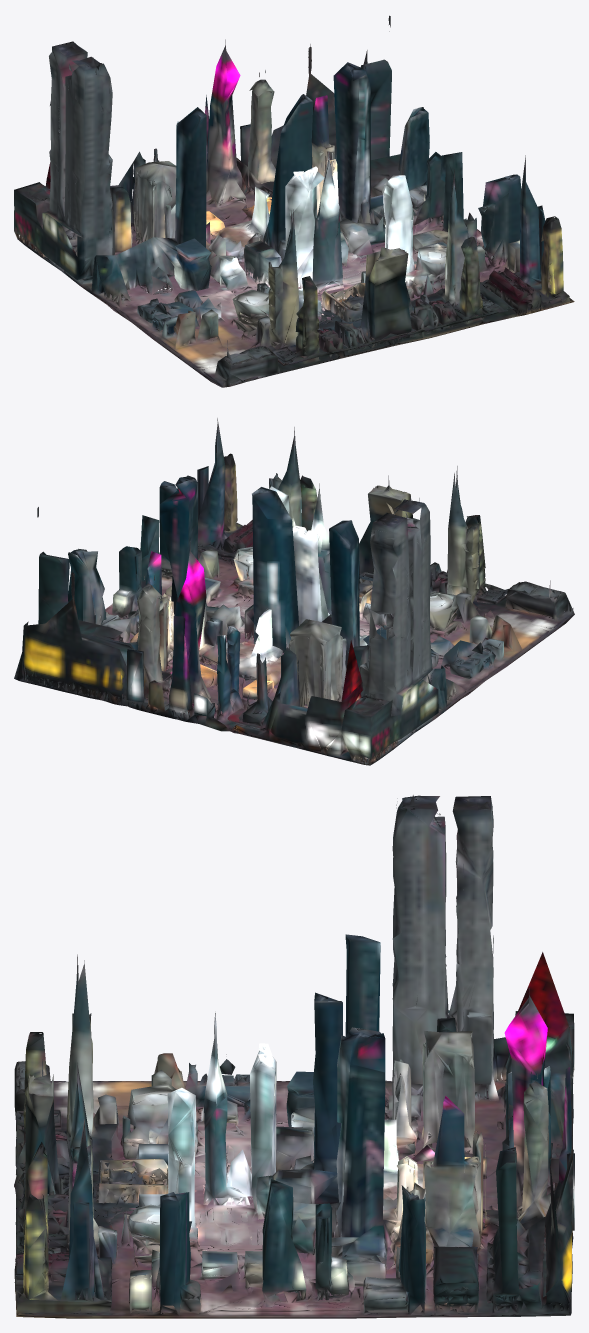
The model's file is city_skyline.glb.
3 renders of one model, top to bottom at view 1: azimuth 30°, elevation 25°; view 2: azimuth 150°, elevation 25°; view 3: azimuth 270°, elevation 25°, orthographic. The views are drawn at different scales.
Parts seen in each view (by area): view 1: frame; view 2: frame; view 3: frame.
Boxes of the visible parts, x1=… form: frame: x1=14, y1=15, x2=574, y2=387; frame: x1=14, y1=418, x2=574, y2=765; frame: x1=14, y1=795, x2=574, y2=1318.
Bounding box in the file's own units: 420 × 247 × 418.
Materials: 1 (1 with a texture image).
